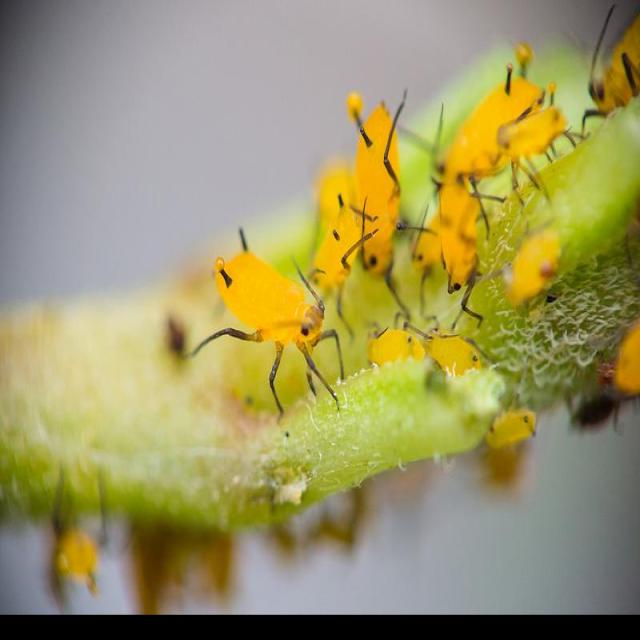Aphids: (186, 234, 353, 418), (432, 75, 560, 192), (354, 86, 401, 322), (494, 97, 586, 182), (488, 212, 562, 309)
